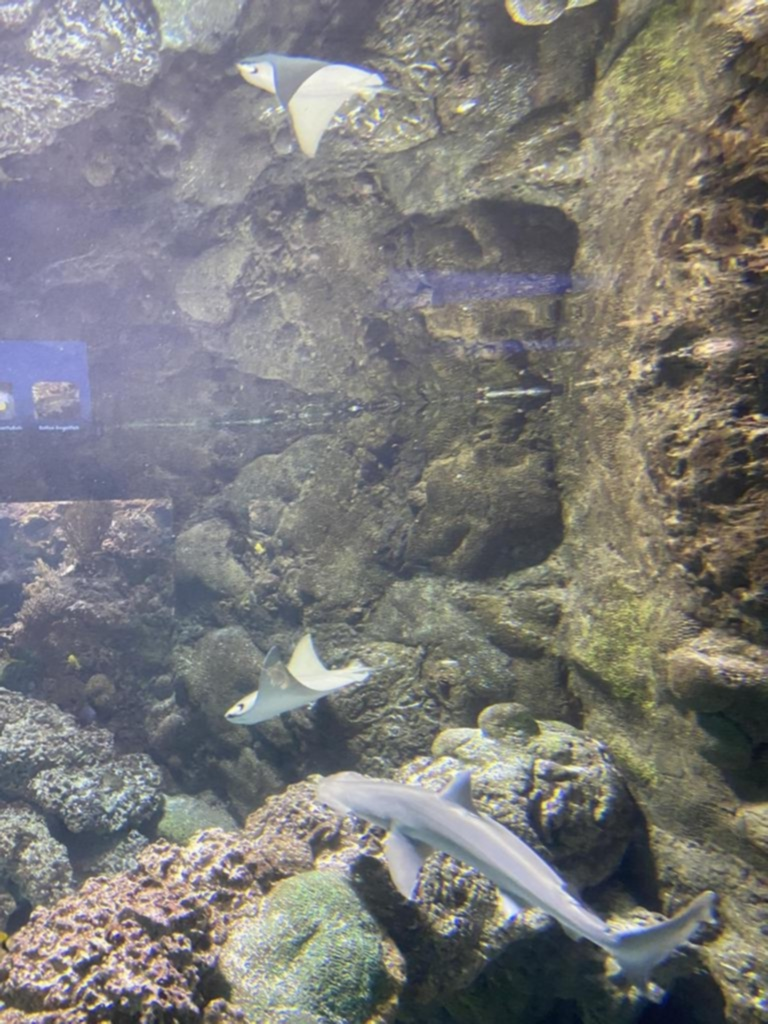shark: (318, 769, 714, 981)
stingray: (237, 51, 384, 157), (224, 633, 370, 735)
